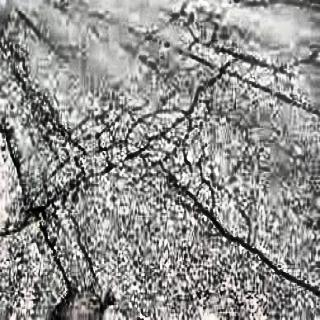alligator-crack: (24, 82, 228, 204), (149, 8, 315, 78)
